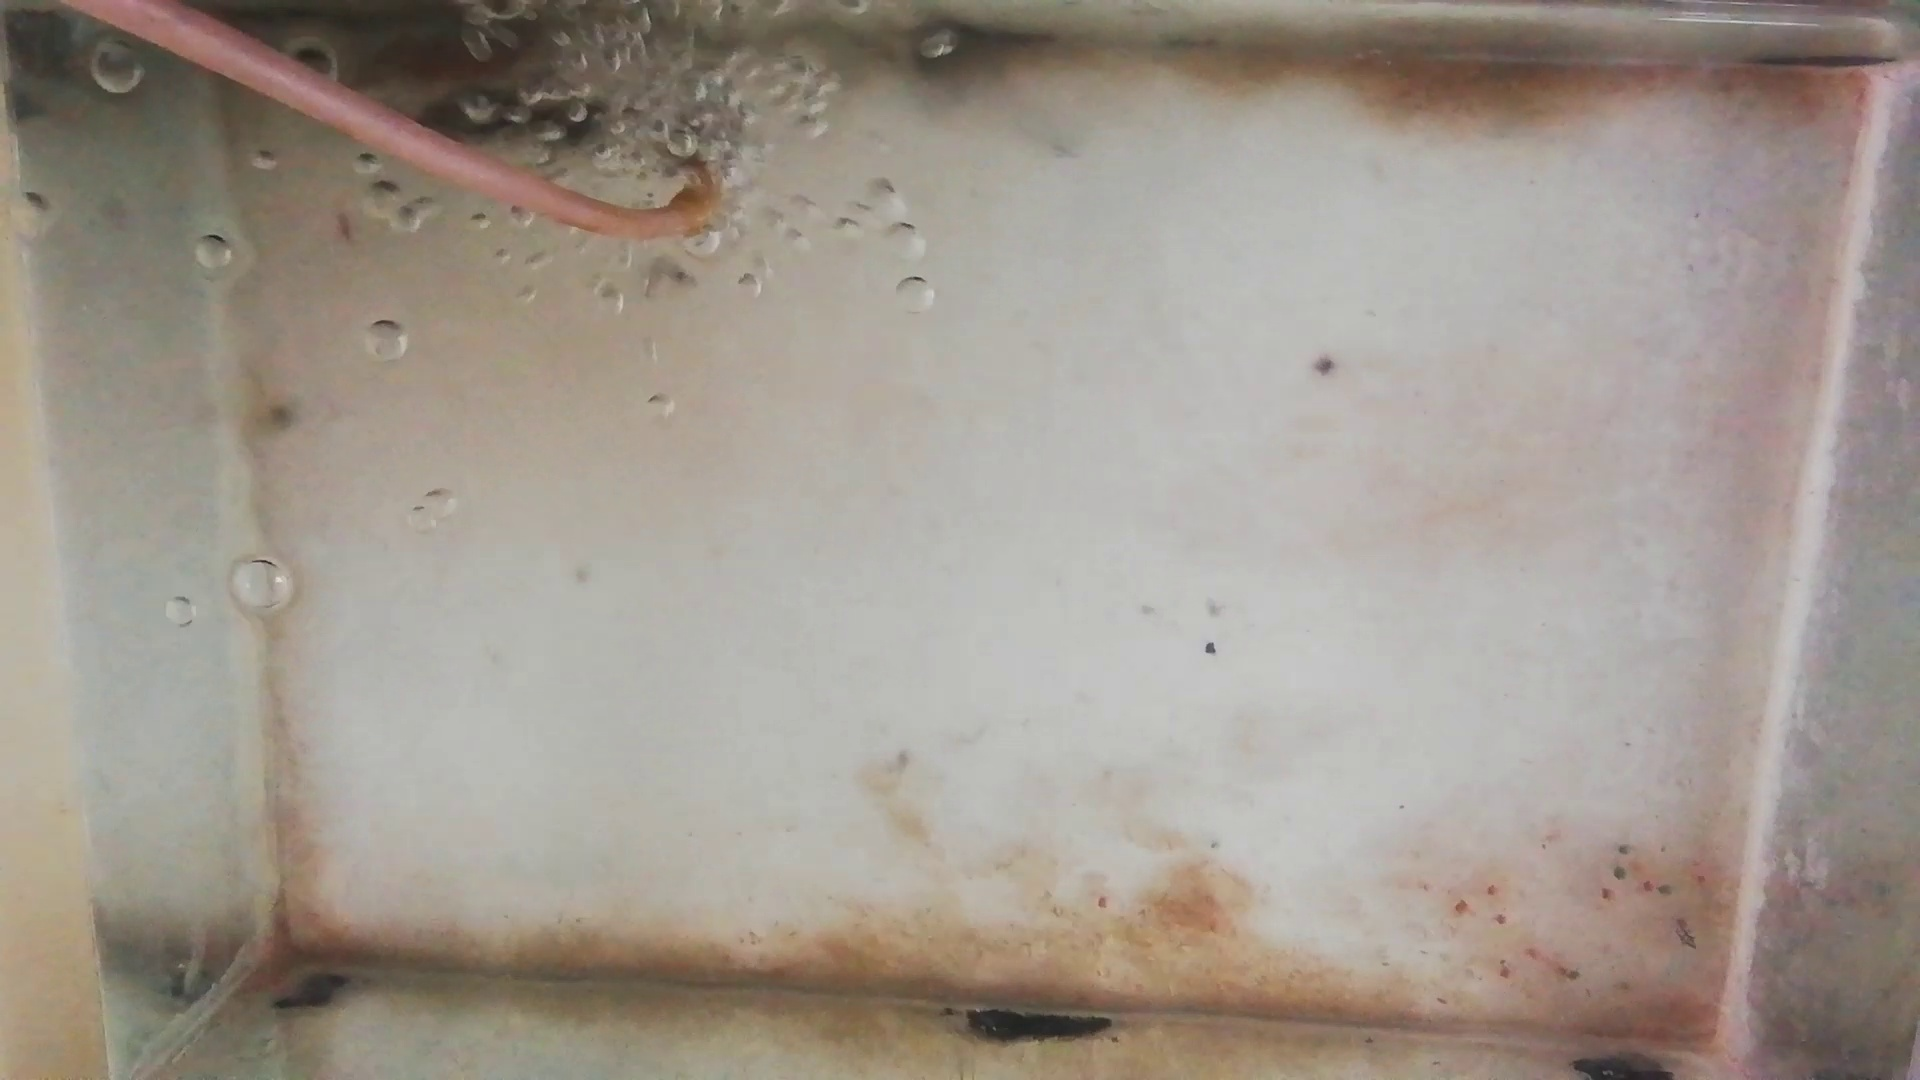fish: (402, 94, 618, 146), (338, 26, 533, 79)
